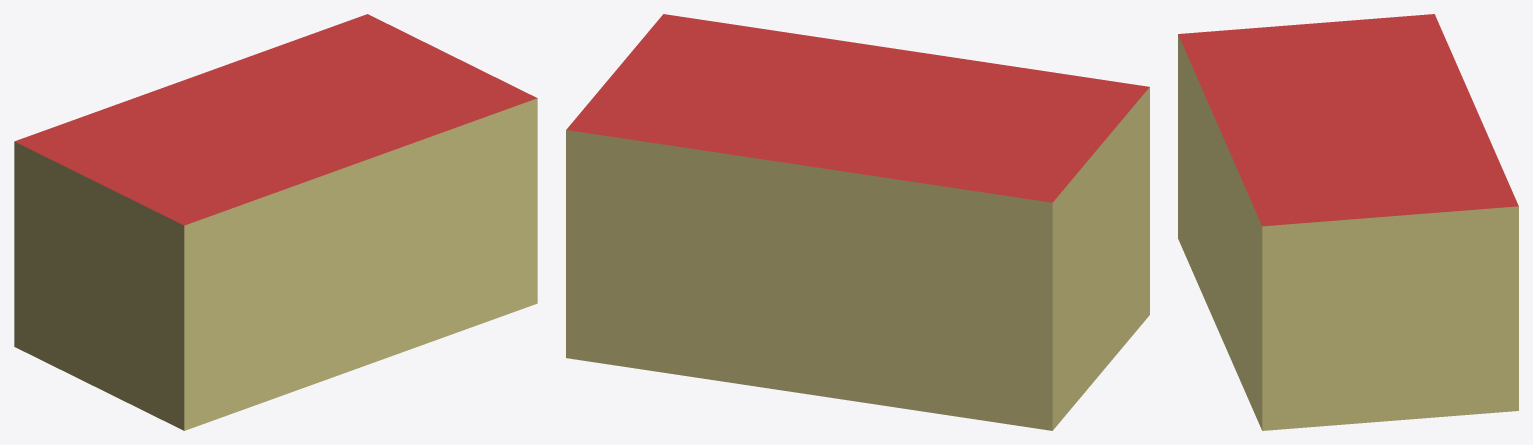
3 views of the same model, side by side, from view 1: azimuth 30°, elevation 25°; view 2: azimuth 150°, elevation 25°; view 3: azimuth 270°, elevation 25° (orthographic). The views are drawn at different scales.
Bounding box in the file's own units: 12.67 × 8.59 × 5.69.
